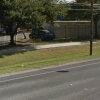Tree: (2, 0, 62, 43)
